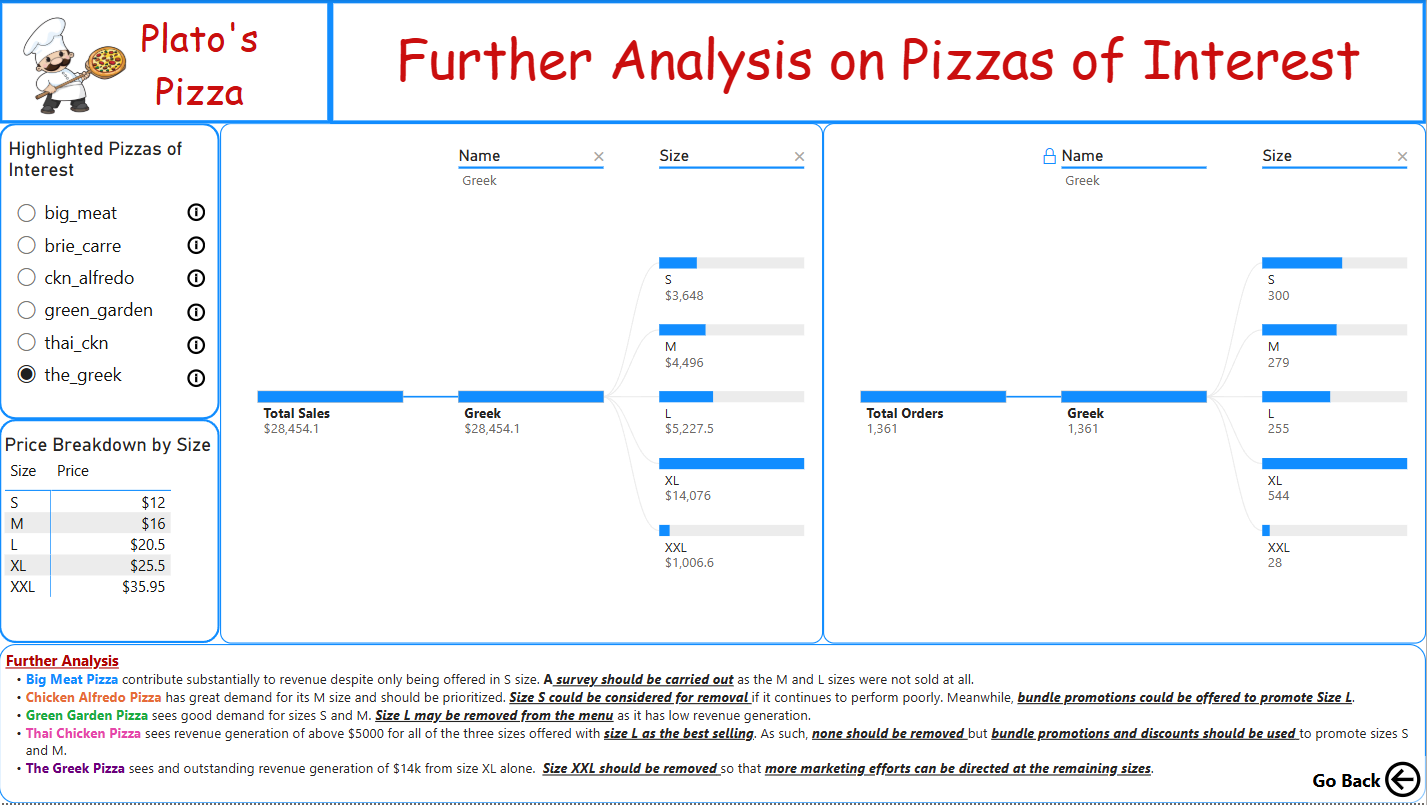

The page's visual inventory and layout, read from the dashboard file:
{"tool":"powerbi","page":{"name":"Pizza Size Analysis","canvas":[1280,720],"ordinal":1},"visuals":[{"type":"textbox","box":[0,577.2,1280.4,142.8],"z":500},{"type":"shape","box":[0,110,198,266],"z":1000},{"type":"shape","box":[0,376,198,201],"z":1500},{"type":"decompositionTreeVisual","fields":{"ExplainBy":["pizza_types.name","pizzas.size"],"Analyze":["Measures Table.Total Sales"]},"box":[198,110,541,467],"z":2000},{"type":"decompositionTreeVisual","fields":{"ExplainBy":["pizza_types.name","pizzas.size"],"Analyze":["Measures Table.Total Orders"]},"box":[739,110,541,467],"z":3000},{"type":"pivotTable","title":"Price Breakdown by Size","fields":{"Rows":["pizzas.size"],"Values":["Avg(order_details.price)"]},"box":[0,388,198,189],"z":4000},{"type":"slicer","title":"Highlighted Pizzas of Interest","fields":{"Values":["pizzas.pizza_type_id"]},"box":[3.5,123.3,197.7,240.3],"z":4500,"group":"g1"},{"type":"actionButton","box":[159.1,173.6,35.5,34.6],"z":5000,"group":"g1"},{"type":"actionButton","box":[1174,678,106,42],"z":5000},{"type":"shape","box":[0,0,297.4,110.8],"z":6000},{"type":"actionButton","box":[159.1,203.2,35.5,34.6],"z":6000,"group":"g1"},{"type":"image","box":[8.7,0,118.6,117.6],"z":7000},{"type":"actionButton","box":[159.5,232.9,34.6,34.6],"z":7000,"group":"g1"},{"type":"textbox","title":"Plato''s Pizza","box":[119,10,121,91],"z":8000},{"type":"actionButton","box":[159.5,262.5,34.6,35.5],"z":8000,"group":"g1"},{"type":"shape","box":[297,0,983,111],"z":9000},{"type":"actionButton","box":[159.5,293,34.6,34.6],"z":9000,"group":"g1"},{"type":"group","id":"g1","title":"Group 1","box":[3.5,123.3,197.7,240.3],"z":9500},{"type":"textbox","box":[305,13,967,85],"z":10000},{"type":"actionButton","box":[159.5,322.6,34.6,34.6],"z":10000,"group":"g1"}]}

Visuals, with their boxes in screenshot pixels (x1, y1, x2, y2), scaled from the page's 1280x720 canvas onto the 1427x805 screenshot:
textbox: l=0, t=645, r=1426, b=804
shape: l=0, t=123, r=221, b=420
shape: l=0, t=420, r=221, b=645
decompositionTreeVisual - pizza_types.name x pizzas.size: l=221, t=123, r=824, b=645
decompositionTreeVisual - pizza_types.name x pizzas.size: l=824, t=123, r=1426, b=645
"Price Breakdown by Size" pivotTable: l=0, t=434, r=221, b=645
"Highlighted Pizzas of Interest" slicer: l=4, t=138, r=224, b=407
actionButton: l=177, t=194, r=217, b=233
actionButton: l=1309, t=758, r=1426, b=804
shape: l=0, t=0, r=332, b=124
actionButton: l=177, t=227, r=217, b=266
image: l=10, t=0, r=142, b=131
actionButton: l=178, t=260, r=216, b=299
"Plato''s Pizza" textbox: l=133, t=11, r=268, b=113
actionButton: l=178, t=293, r=216, b=333
shape: l=331, t=0, r=1426, b=124
actionButton: l=178, t=328, r=216, b=366
"Group 1" group: l=4, t=138, r=224, b=407
textbox: l=340, t=15, r=1418, b=110
actionButton: l=178, t=361, r=216, b=399
